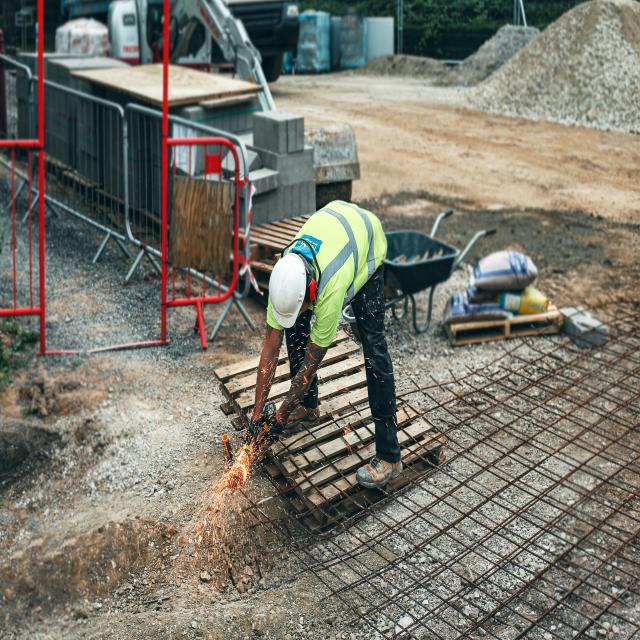helmet: (258, 247, 318, 337)
shoes: (348, 439, 411, 486), (276, 396, 324, 424)
